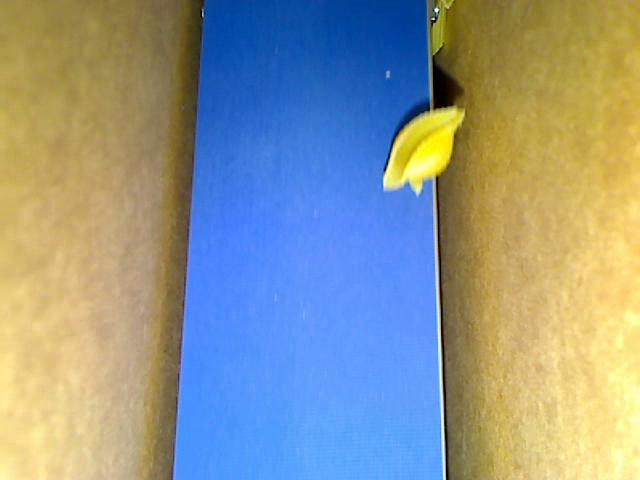penne: (426, 1, 444, 59), (444, 1, 456, 12)
shell: (381, 102, 466, 190)
